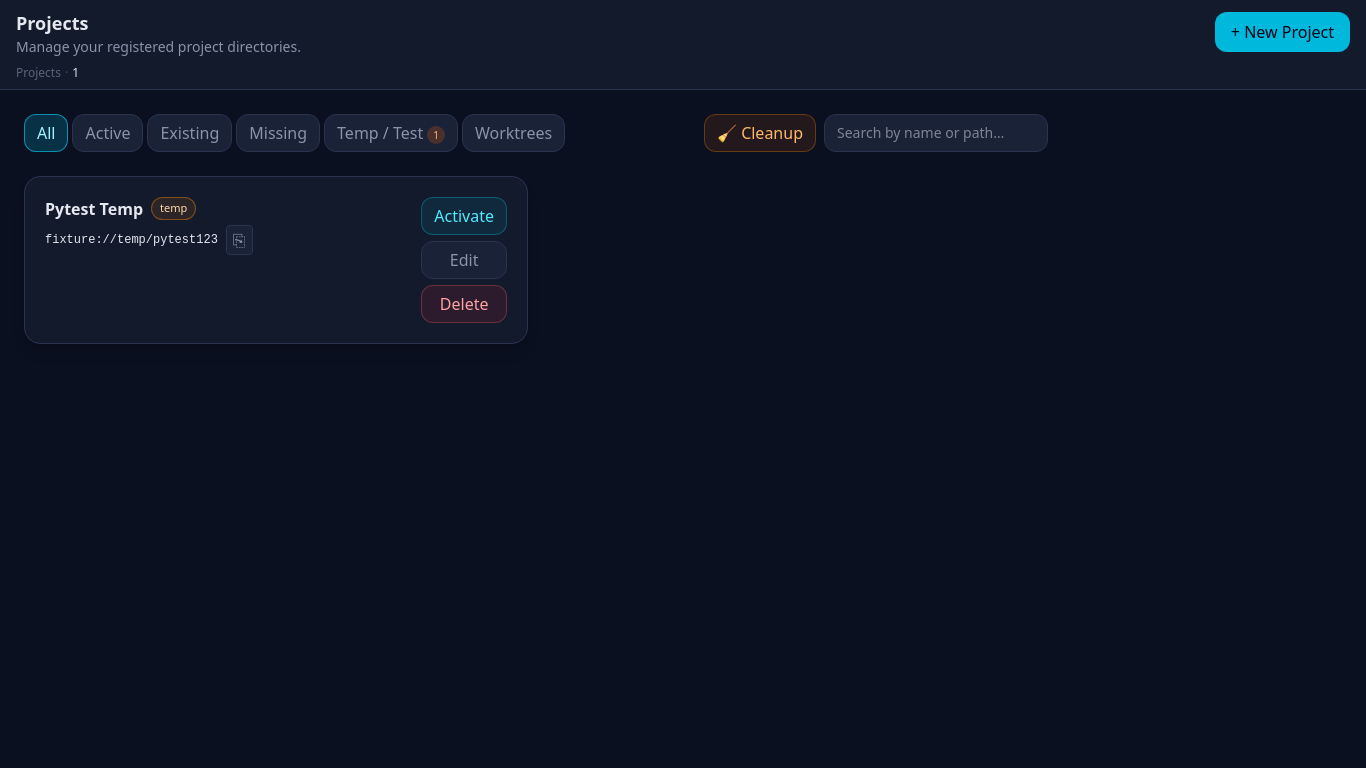
ProjectsPage cleanup modal › closes cleanup modal on Cancel
The image size is (1366, 768).
Click the button "🧹 Cleanup": (760, 132) [704,114,816,152]
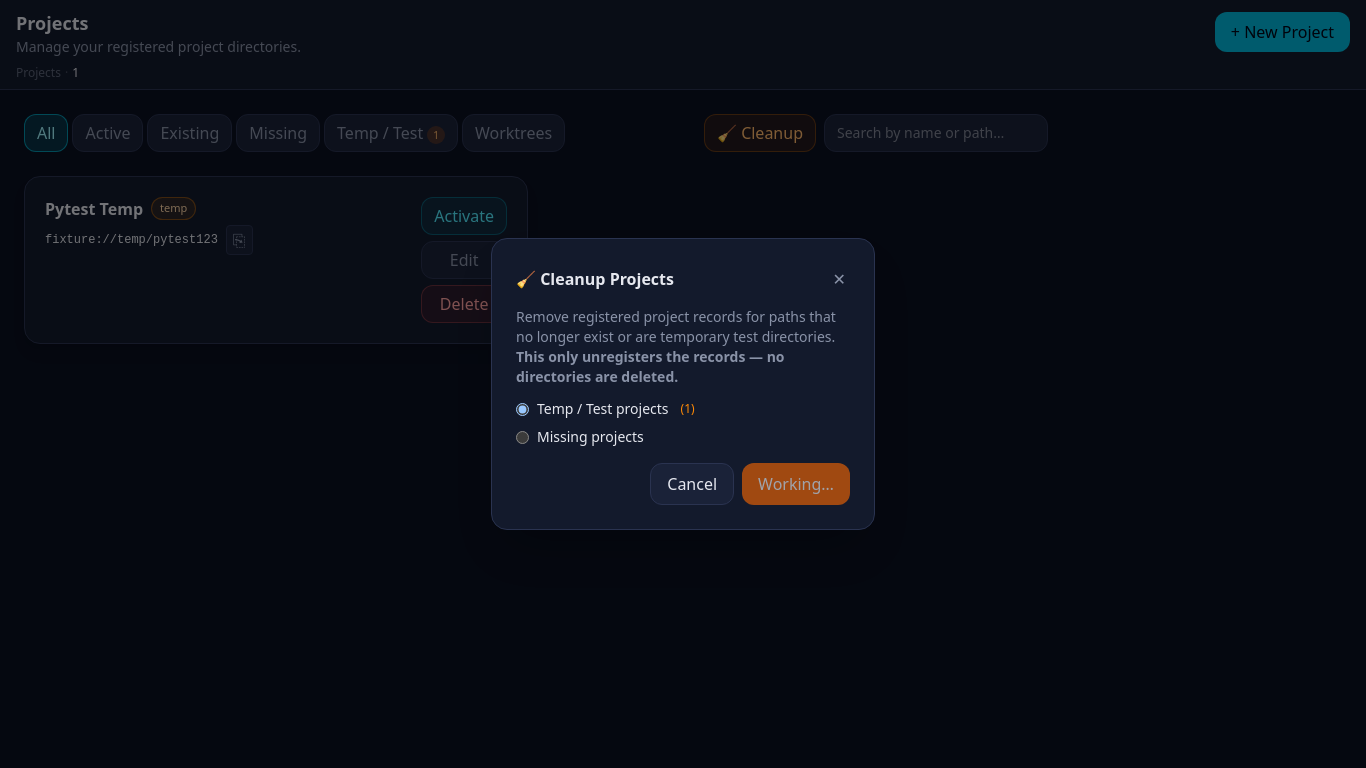
expect the heading "🧹 Cleanup Projects" is shown: met, box [516,267,674,291]
Click the button "Cancel": (692, 484) [650,463,734,505]
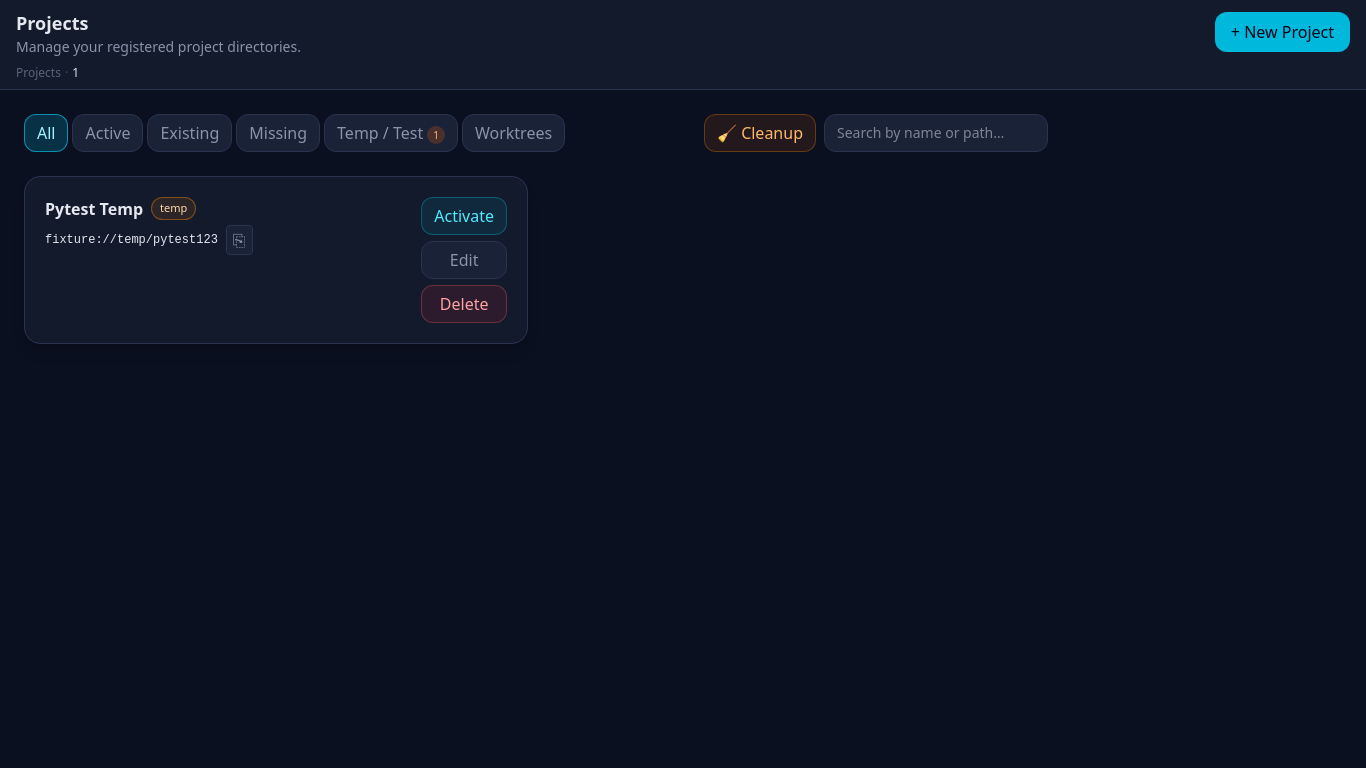
expect the heading "🧹 Cleanup Projects" is gone: met
